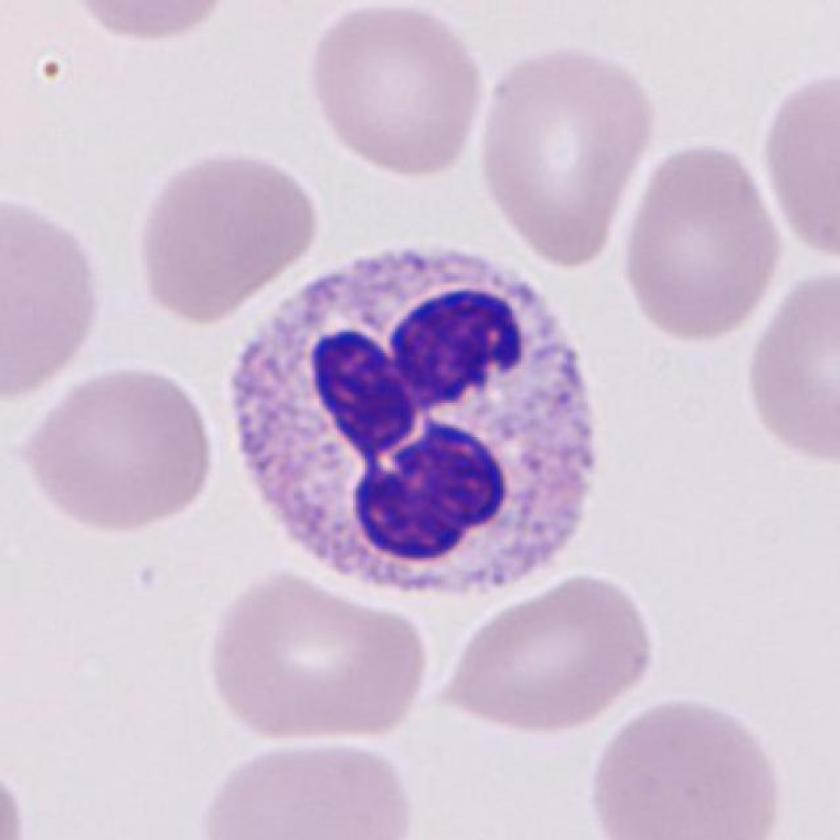neutrophil: (230, 245, 603, 602)
